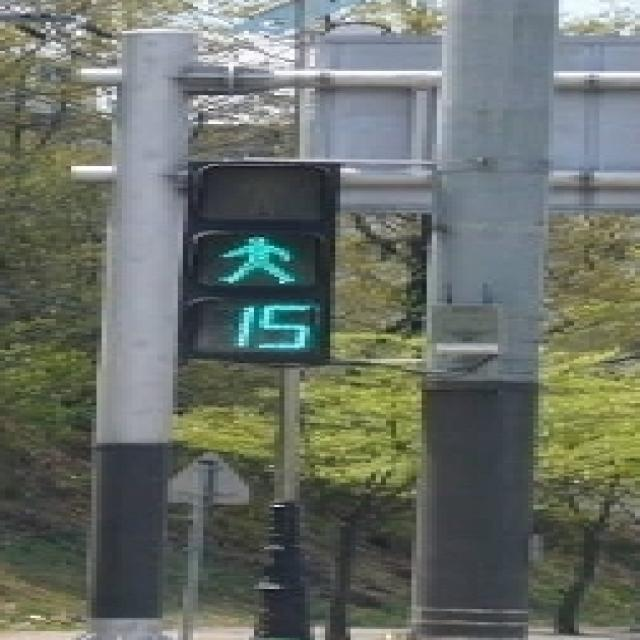green_light: (207, 236, 316, 354)
